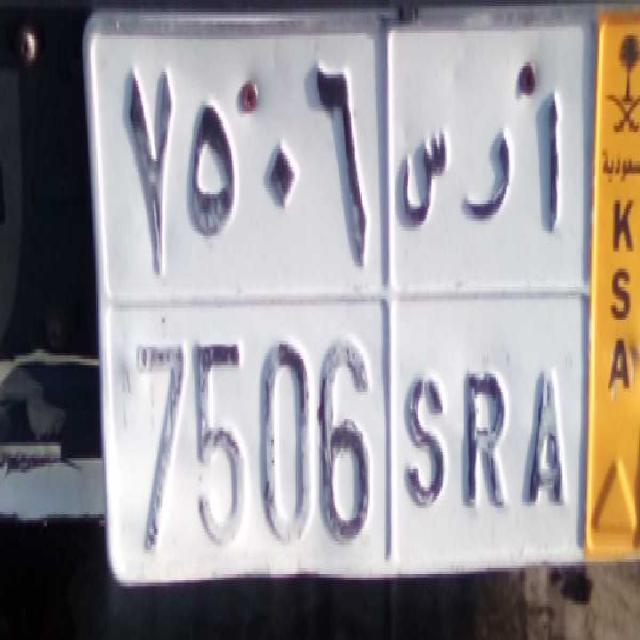license_plate: (101, 293, 587, 580)
